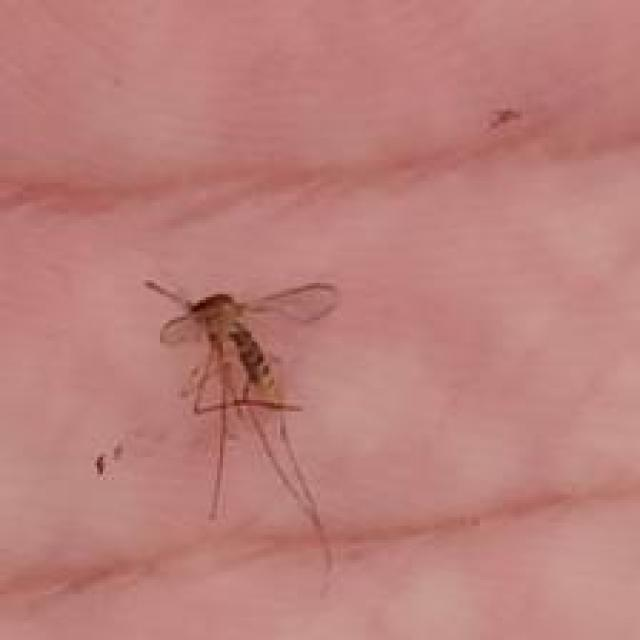Culex: (94, 274, 343, 597)
